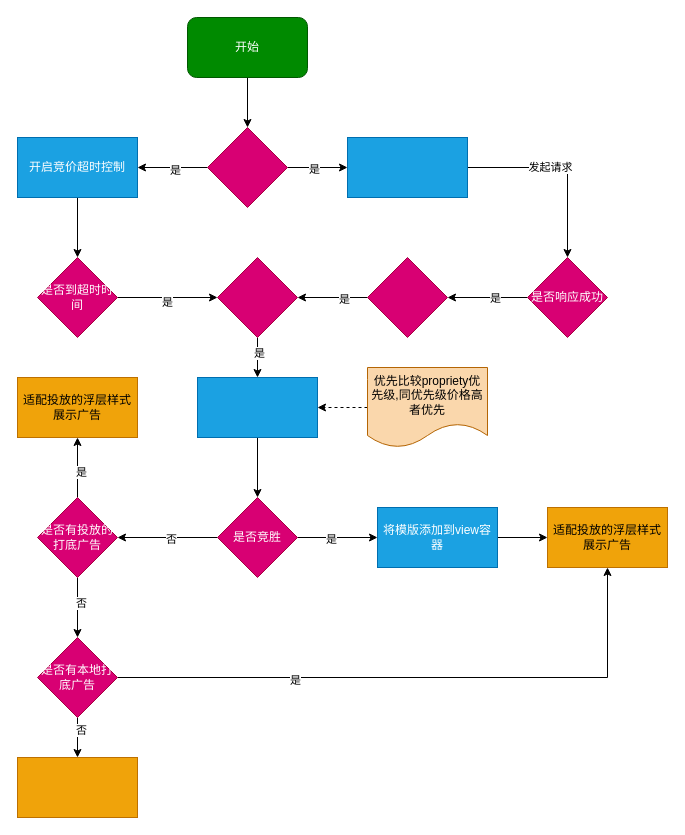
Some shapes in this 685 by 835 pixel diagram are drawn without their labels. The shapes that lost their labels are listed below. From the top down, each one's centre as x and y in pixels, then its label:
At (x=247, y=167): "是否有阿里tanx投放".
At (x=407, y=167): "创建阿里tanx Loader加载器".
At (x=257, y=297): "是否有可用素材".
At (x=407, y=297): "是否所有广告都有响应".
At (x=257, y=407): "开启bidding竞价".
At (x=77, y=787): "结束".
